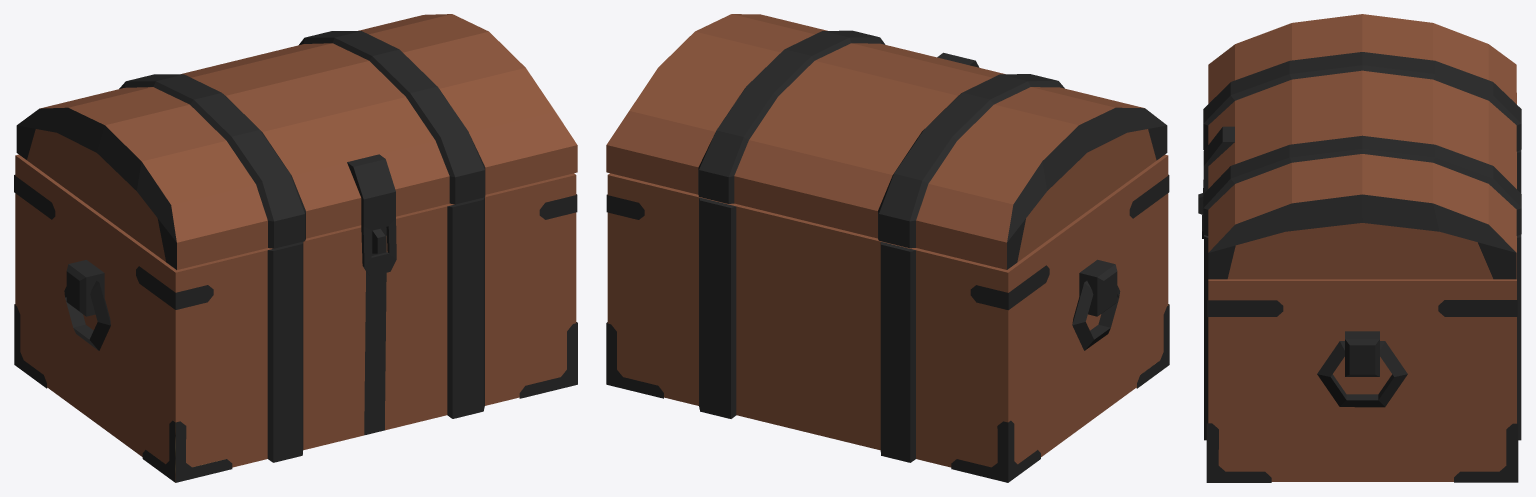
The model's file is chest_small.fbx.
3 renders of one model, left to right at view 1: azimuth 30°, elevation 25°; view 2: azimuth 150°, elevation 25°; view 3: azimuth 270°, elevation 25°, orthographic. The views are drawn at different scales.
Parts seen in each view (by area): view 1: chest, chest_lid; view 2: chest, chest_lid; view 3: chest_lid, chest.
Boxes of the visible parts, bbox=[...] form: chest: bbox=[14, 154, 577, 482]; chest_lid: bbox=[16, 14, 577, 276]; chest: bbox=[606, 154, 1169, 482]; chest_lid: bbox=[606, 14, 1167, 269]; chest_lid: bbox=[1202, 14, 1521, 279]; chest: bbox=[1198, 93, 1521, 482].
Size of the model in its own units: 41.58 by 27.07 by 27.26.
